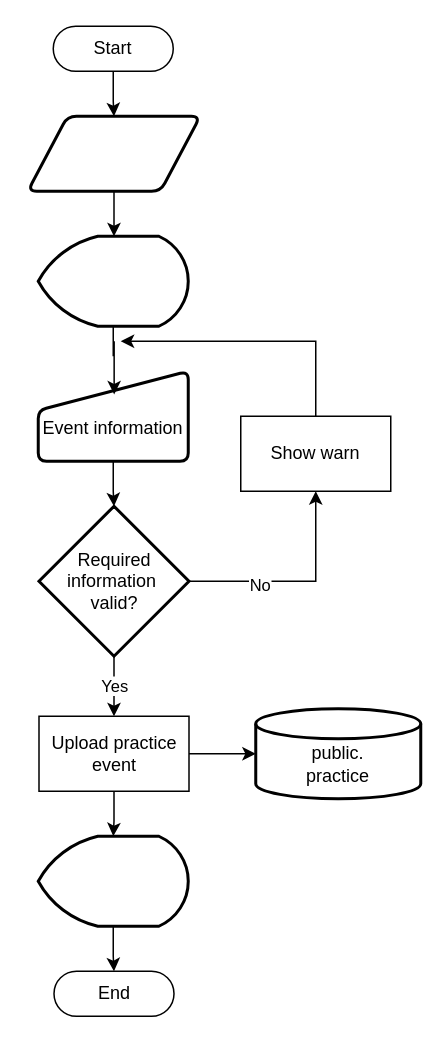
The diagram is 447 pixels wide and 1043 high, and some of its shapes have lost their labels. The centre of each missing label's shape, as x and y in pixels:
Completion: (x=112, y=880)
Create Practice: (x=112, y=280)
Selected Group Data: (x=113, y=153)
